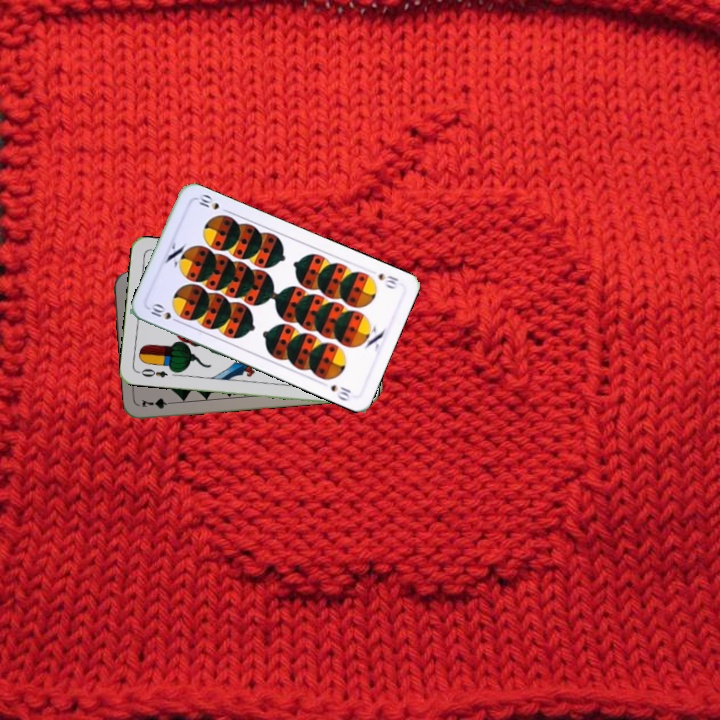EO: (134, 364, 170, 380)
G7: (138, 394, 178, 411)
S10: (145, 300, 183, 326), (374, 269, 401, 287)
